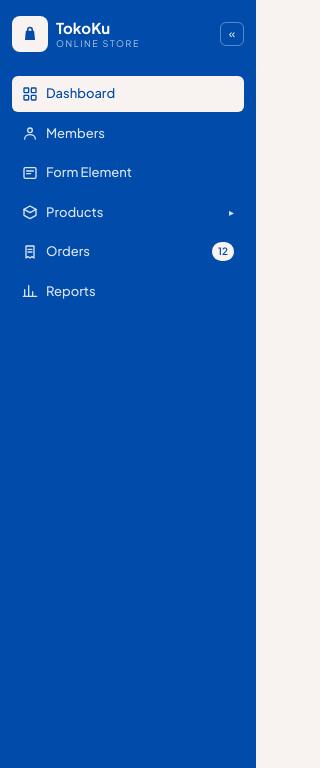
Scenario: Sidebar › opens the Products submenu and closes it when Reports is clicked
Expected: the text "All Products" is not shown
Click the button "Products ▸" at (128, 212), box [12, 194, 244, 230]
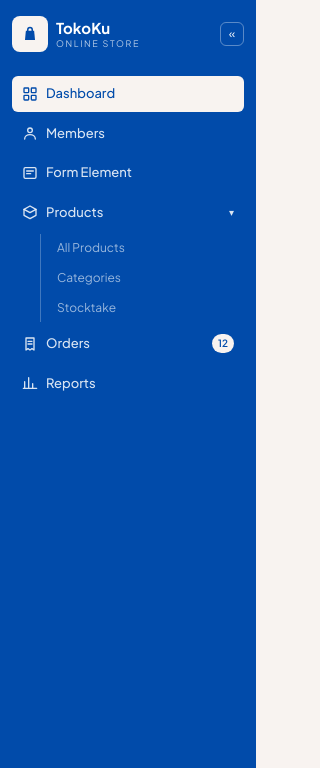
Expected: the button "All Products" is shown, [49, 234, 244, 262]
Click the button "Reports" at (128, 383), box [12, 366, 244, 401]
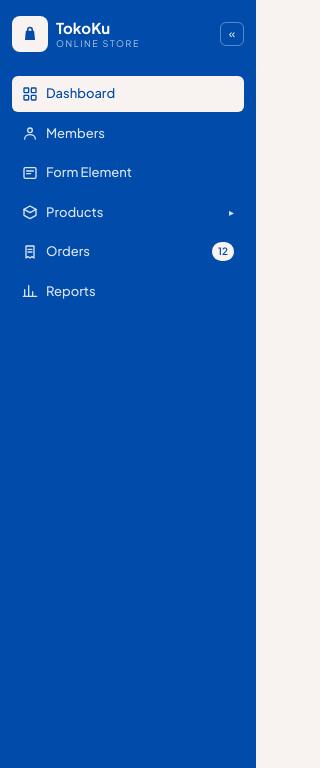
Expected: the button "All Products" is gone
Expected: the button "Stock" is gone
